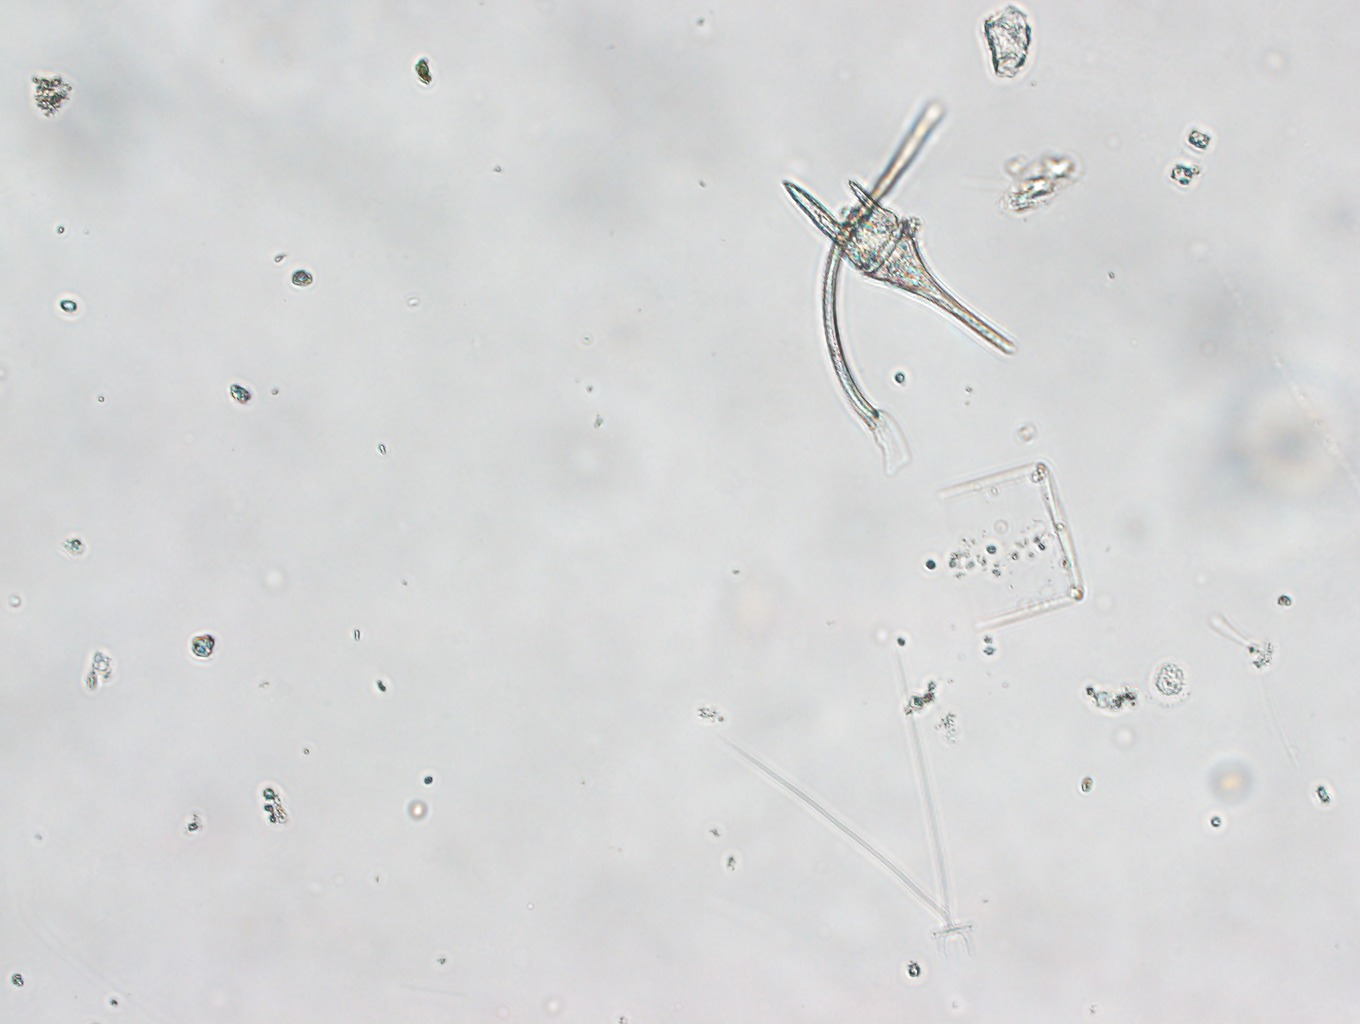ceratium furca: (772, 165, 1015, 358)
